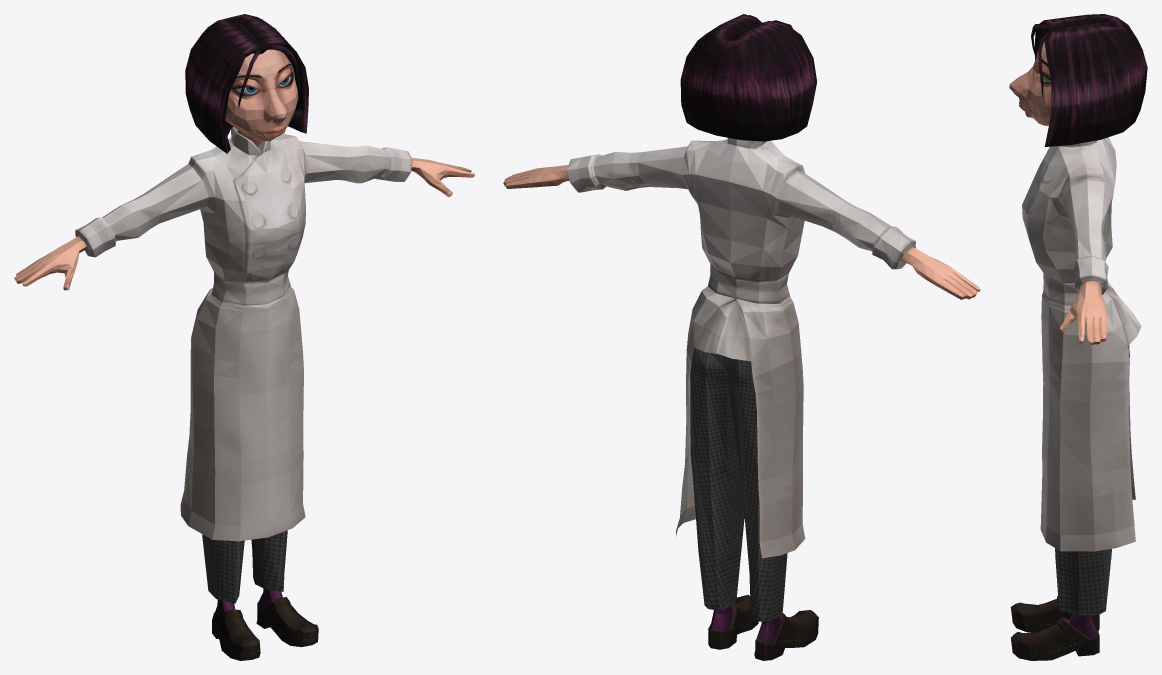
File: colette_costume_basic.obj
The picture shows the model from 3 angles, left to right: view 1: azimuth 30°, elevation 25°; view 2: azimuth 150°, elevation 25°; view 3: azimuth 270°, elevation 25°; orthographic projection. The views are drawn at different scales.
Visible parts, largest first — view 1: colette_lod0; view 2: colette_lod0; view 3: colette_lod0.
Boxes of the visible parts, box(x1,y1,x2,y2) form: colette_lod0: box(14, 14, 474, 660); colette_lod0: box(503, 14, 980, 660); colette_lod0: box(1009, 14, 1147, 660).
Size of what is drawn, in the model's own units: 91 by 115 by 23.33.
1 material, 1 textured.
